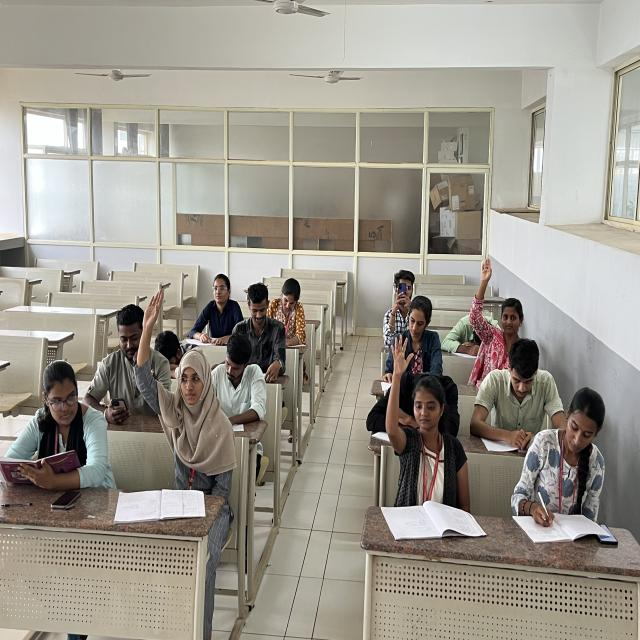Hand Rising: (126, 286, 234, 516), (378, 326, 472, 526), (465, 255, 528, 364)
Reading: (0, 352, 123, 526), (471, 334, 569, 456), (378, 293, 446, 402), (232, 278, 289, 388)
Sleeping: (366, 369, 463, 444), (443, 305, 499, 359), (148, 324, 203, 366)
Using Phone: (82, 301, 170, 428), (374, 263, 416, 344)
Writing: (509, 382, 617, 548), (209, 324, 273, 448), (182, 269, 244, 346), (267, 274, 309, 356)
